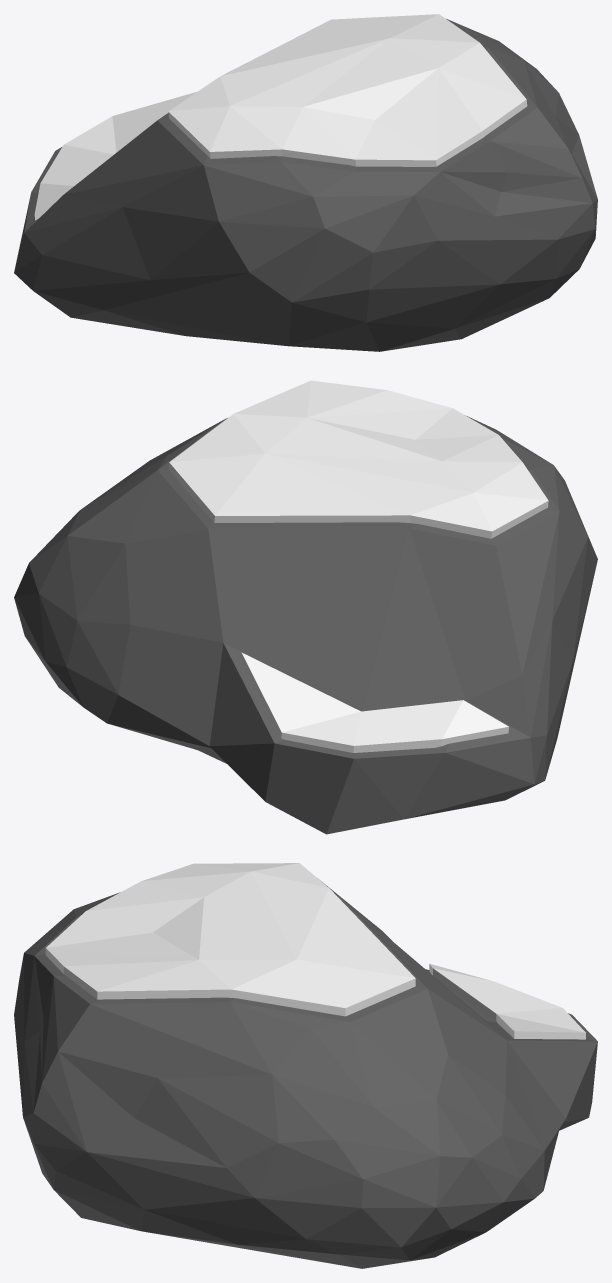
Rendered from obstaculo_nieve_roca.fbx.
3 views of the same model, one above another, from view 1: azimuth 30°, elevation 25°; view 2: azimuth 150°, elevation 25°; view 3: azimuth 270°, elevation 25° (orthographic). The views are drawn at different scales.
Visible parts, largest first — view 1: RocaNieve; view 2: RocaNieve; view 3: RocaNieve.
Part boxes in pixels (x1=…): RocaNieve: x1=14, y1=14, x2=597, y2=351; RocaNieve: x1=14, y1=380, x2=597, y2=834; RocaNieve: x1=14, y1=863, x2=597, y2=1268.
Size of the model in its own units: 36.67 by 17.64 by 33.3.
